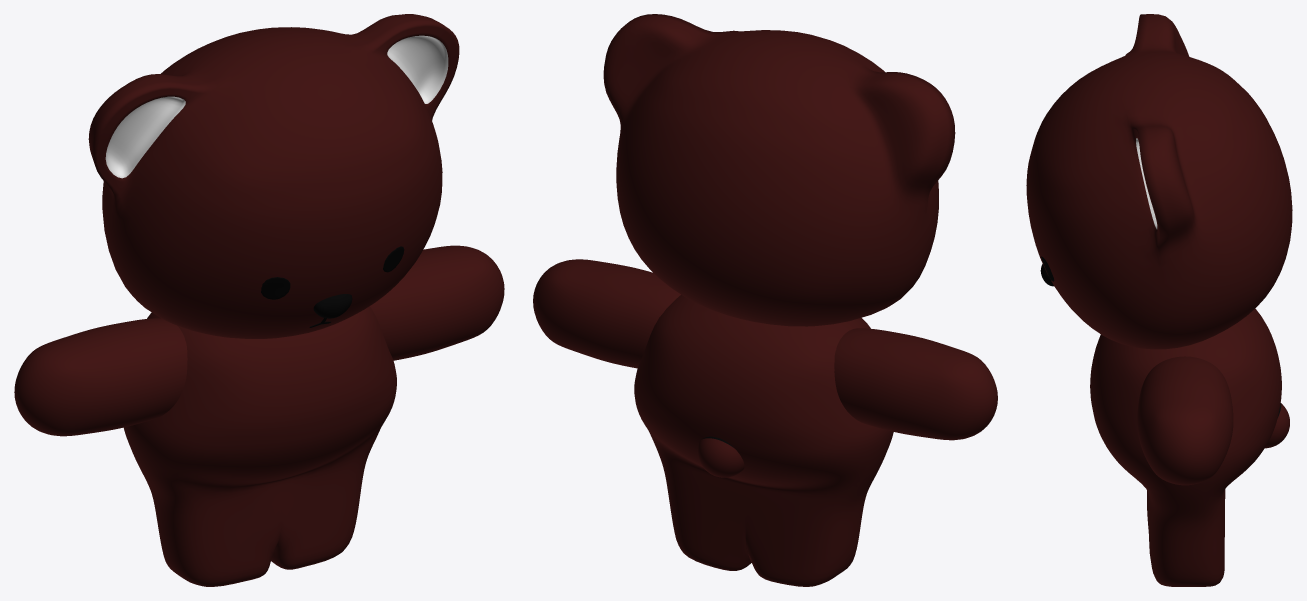
File: darkB Ear_A.fbx
3 renders of one model, left to right at view 1: azimuth 30°, elevation 25°; view 2: azimuth 150°, elevation 25°; view 3: azimuth 270°, elevation 25°, orthographic. The views are drawn at different scales.
Visible parts, largest first — view 1: darkB Ear_A; view 2: darkB Ear_A; view 3: darkB Ear_A.
Boxes of the visible parts, box(x1,y1,x2,y2) form: darkB Ear_A: box(14, 14, 504, 586); darkB Ear_A: box(533, 14, 997, 586); darkB Ear_A: box(1026, 14, 1292, 586).
Bounding box in the file's own units: 460 × 489 × 241.
